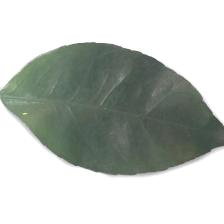healthy: (15, 42, 224, 156)
